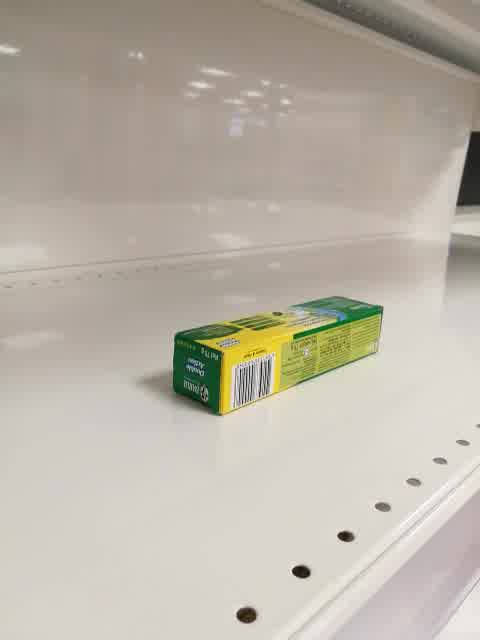toothpaste: (173, 295, 383, 418)
